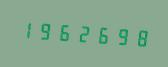eight: (131, 23, 149, 51)
nine: (36, 16, 54, 44), (112, 22, 130, 50)
one: (17, 15, 35, 43)
six: (55, 18, 73, 46), (93, 20, 111, 48)
two: (74, 19, 92, 47)
